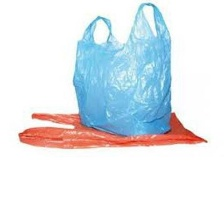plastic_bag: (71, 0, 175, 140), (13, 102, 212, 158)
